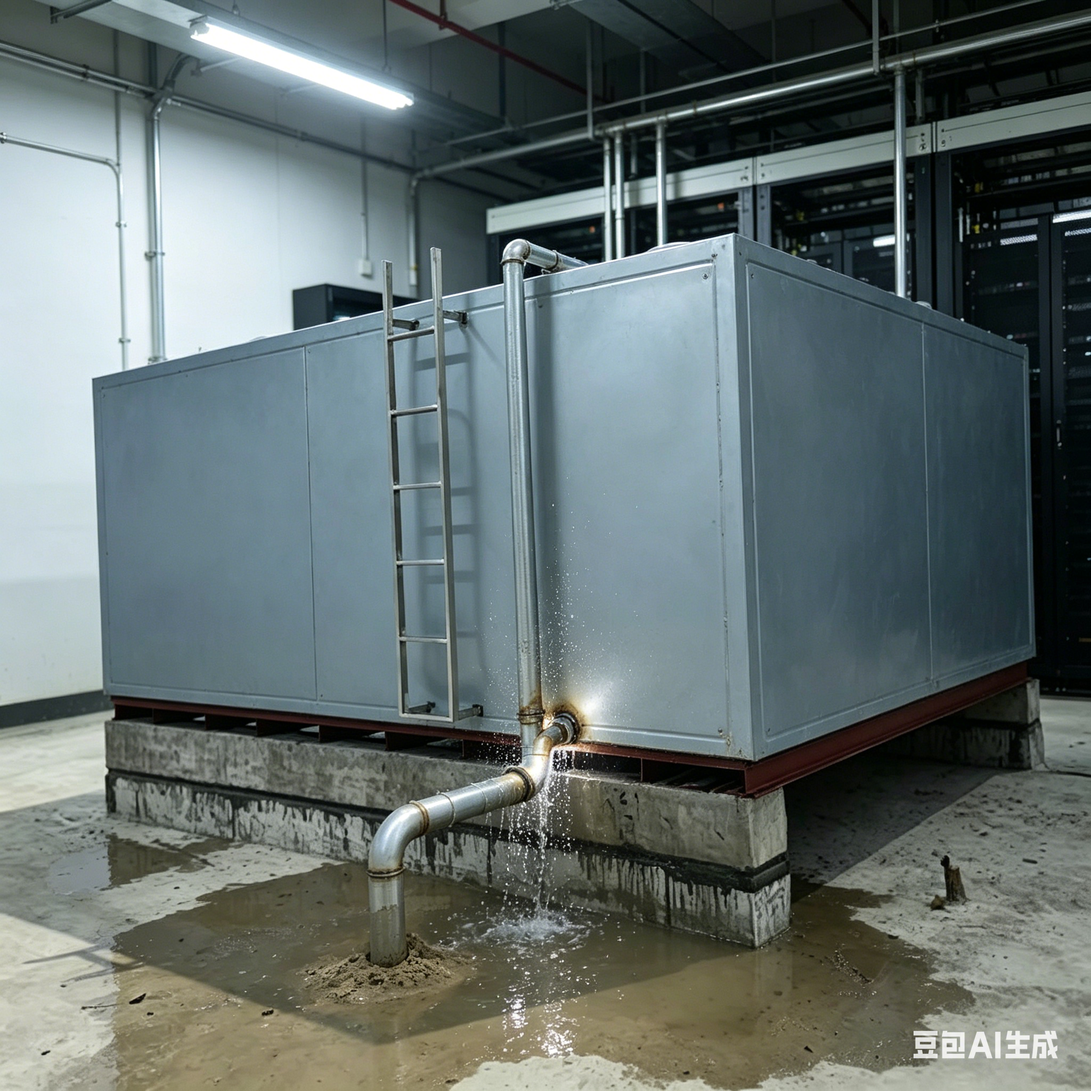Leakage: (596, 904, 947, 1091), (116, 927, 465, 1091), (483, 678, 580, 1069), (241, 848, 473, 927), (46, 822, 164, 886)
